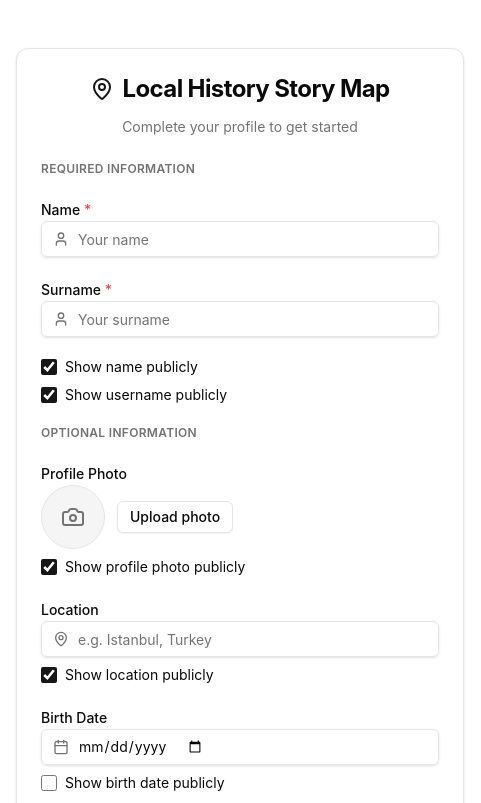
ProfileCompletionPage › shows error when name is empty
Step 1. Type "Smith" into the field labelled "Surname *" → point(240, 319), box [41, 301, 439, 337]
(page scrolled)
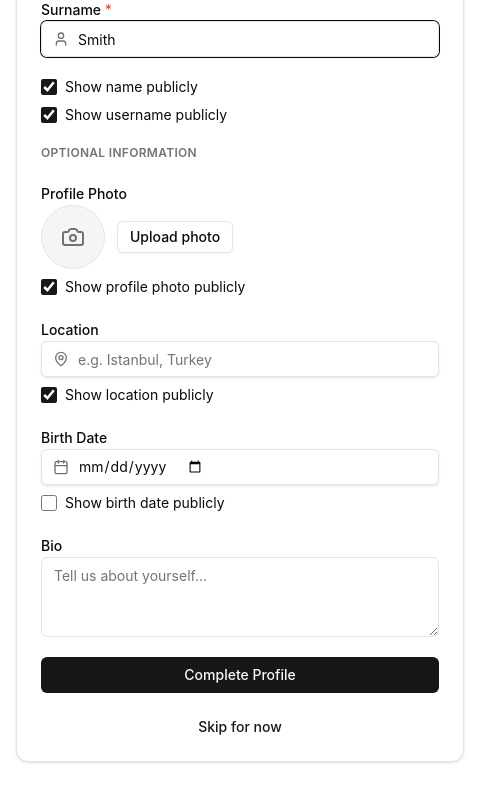
Step 2. Click the button "Complete Profile" → point(240, 675), box [41, 657, 439, 693]
(page scrolled)
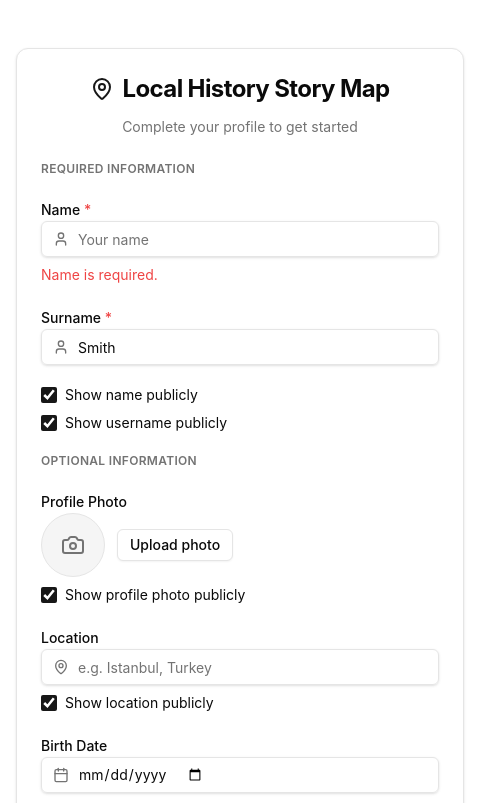
expect the text "Name is required." is shown: met, box [41, 266, 158, 283]
